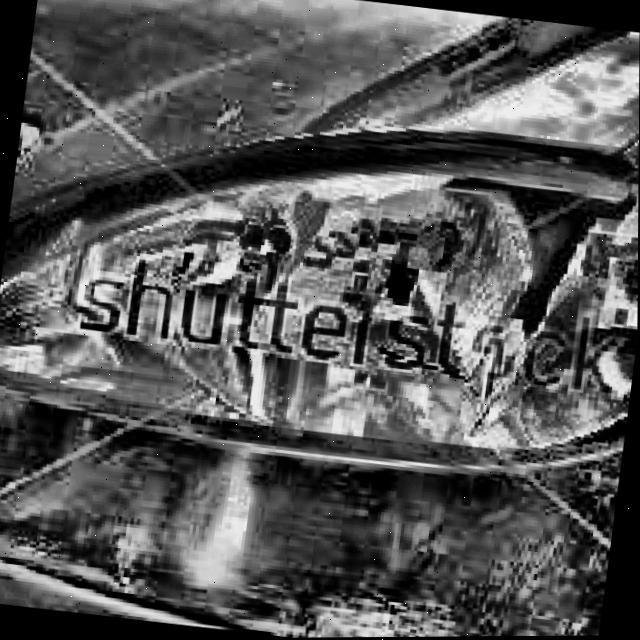head_lamp: (0, 134, 369, 443), (361, 144, 639, 449)
